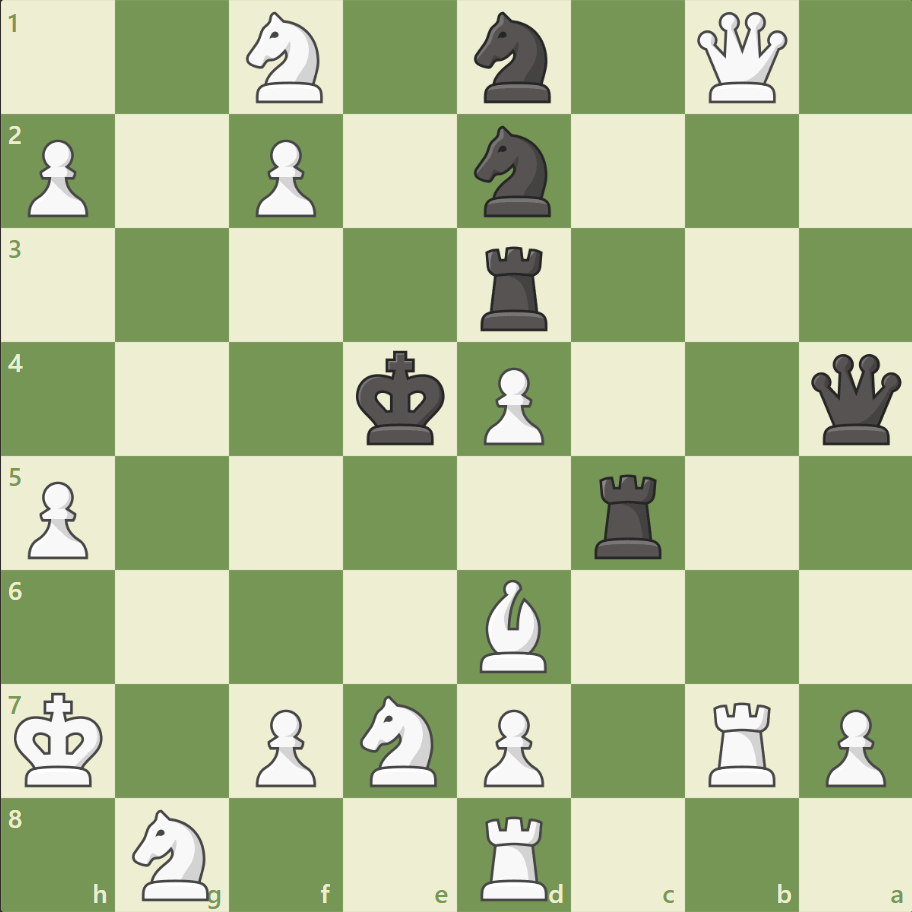B: (471, 574, 555, 676)
K: (11, 685, 111, 793)
N: (351, 688, 449, 791), (124, 802, 222, 904), (238, 7, 335, 110)
P: (474, 700, 549, 791), (247, 700, 322, 791), (20, 473, 95, 564), (474, 359, 549, 450), (247, 132, 322, 223), (20, 132, 95, 223), (815, 700, 889, 791)
Q: (691, 9, 790, 108)
R: (473, 806, 556, 904), (700, 693, 783, 790)
k: (351, 344, 451, 452)
n: (465, 7, 562, 110), (465, 121, 562, 223)
q: (805, 349, 904, 449)
r: (587, 466, 670, 563), (473, 239, 556, 336)
